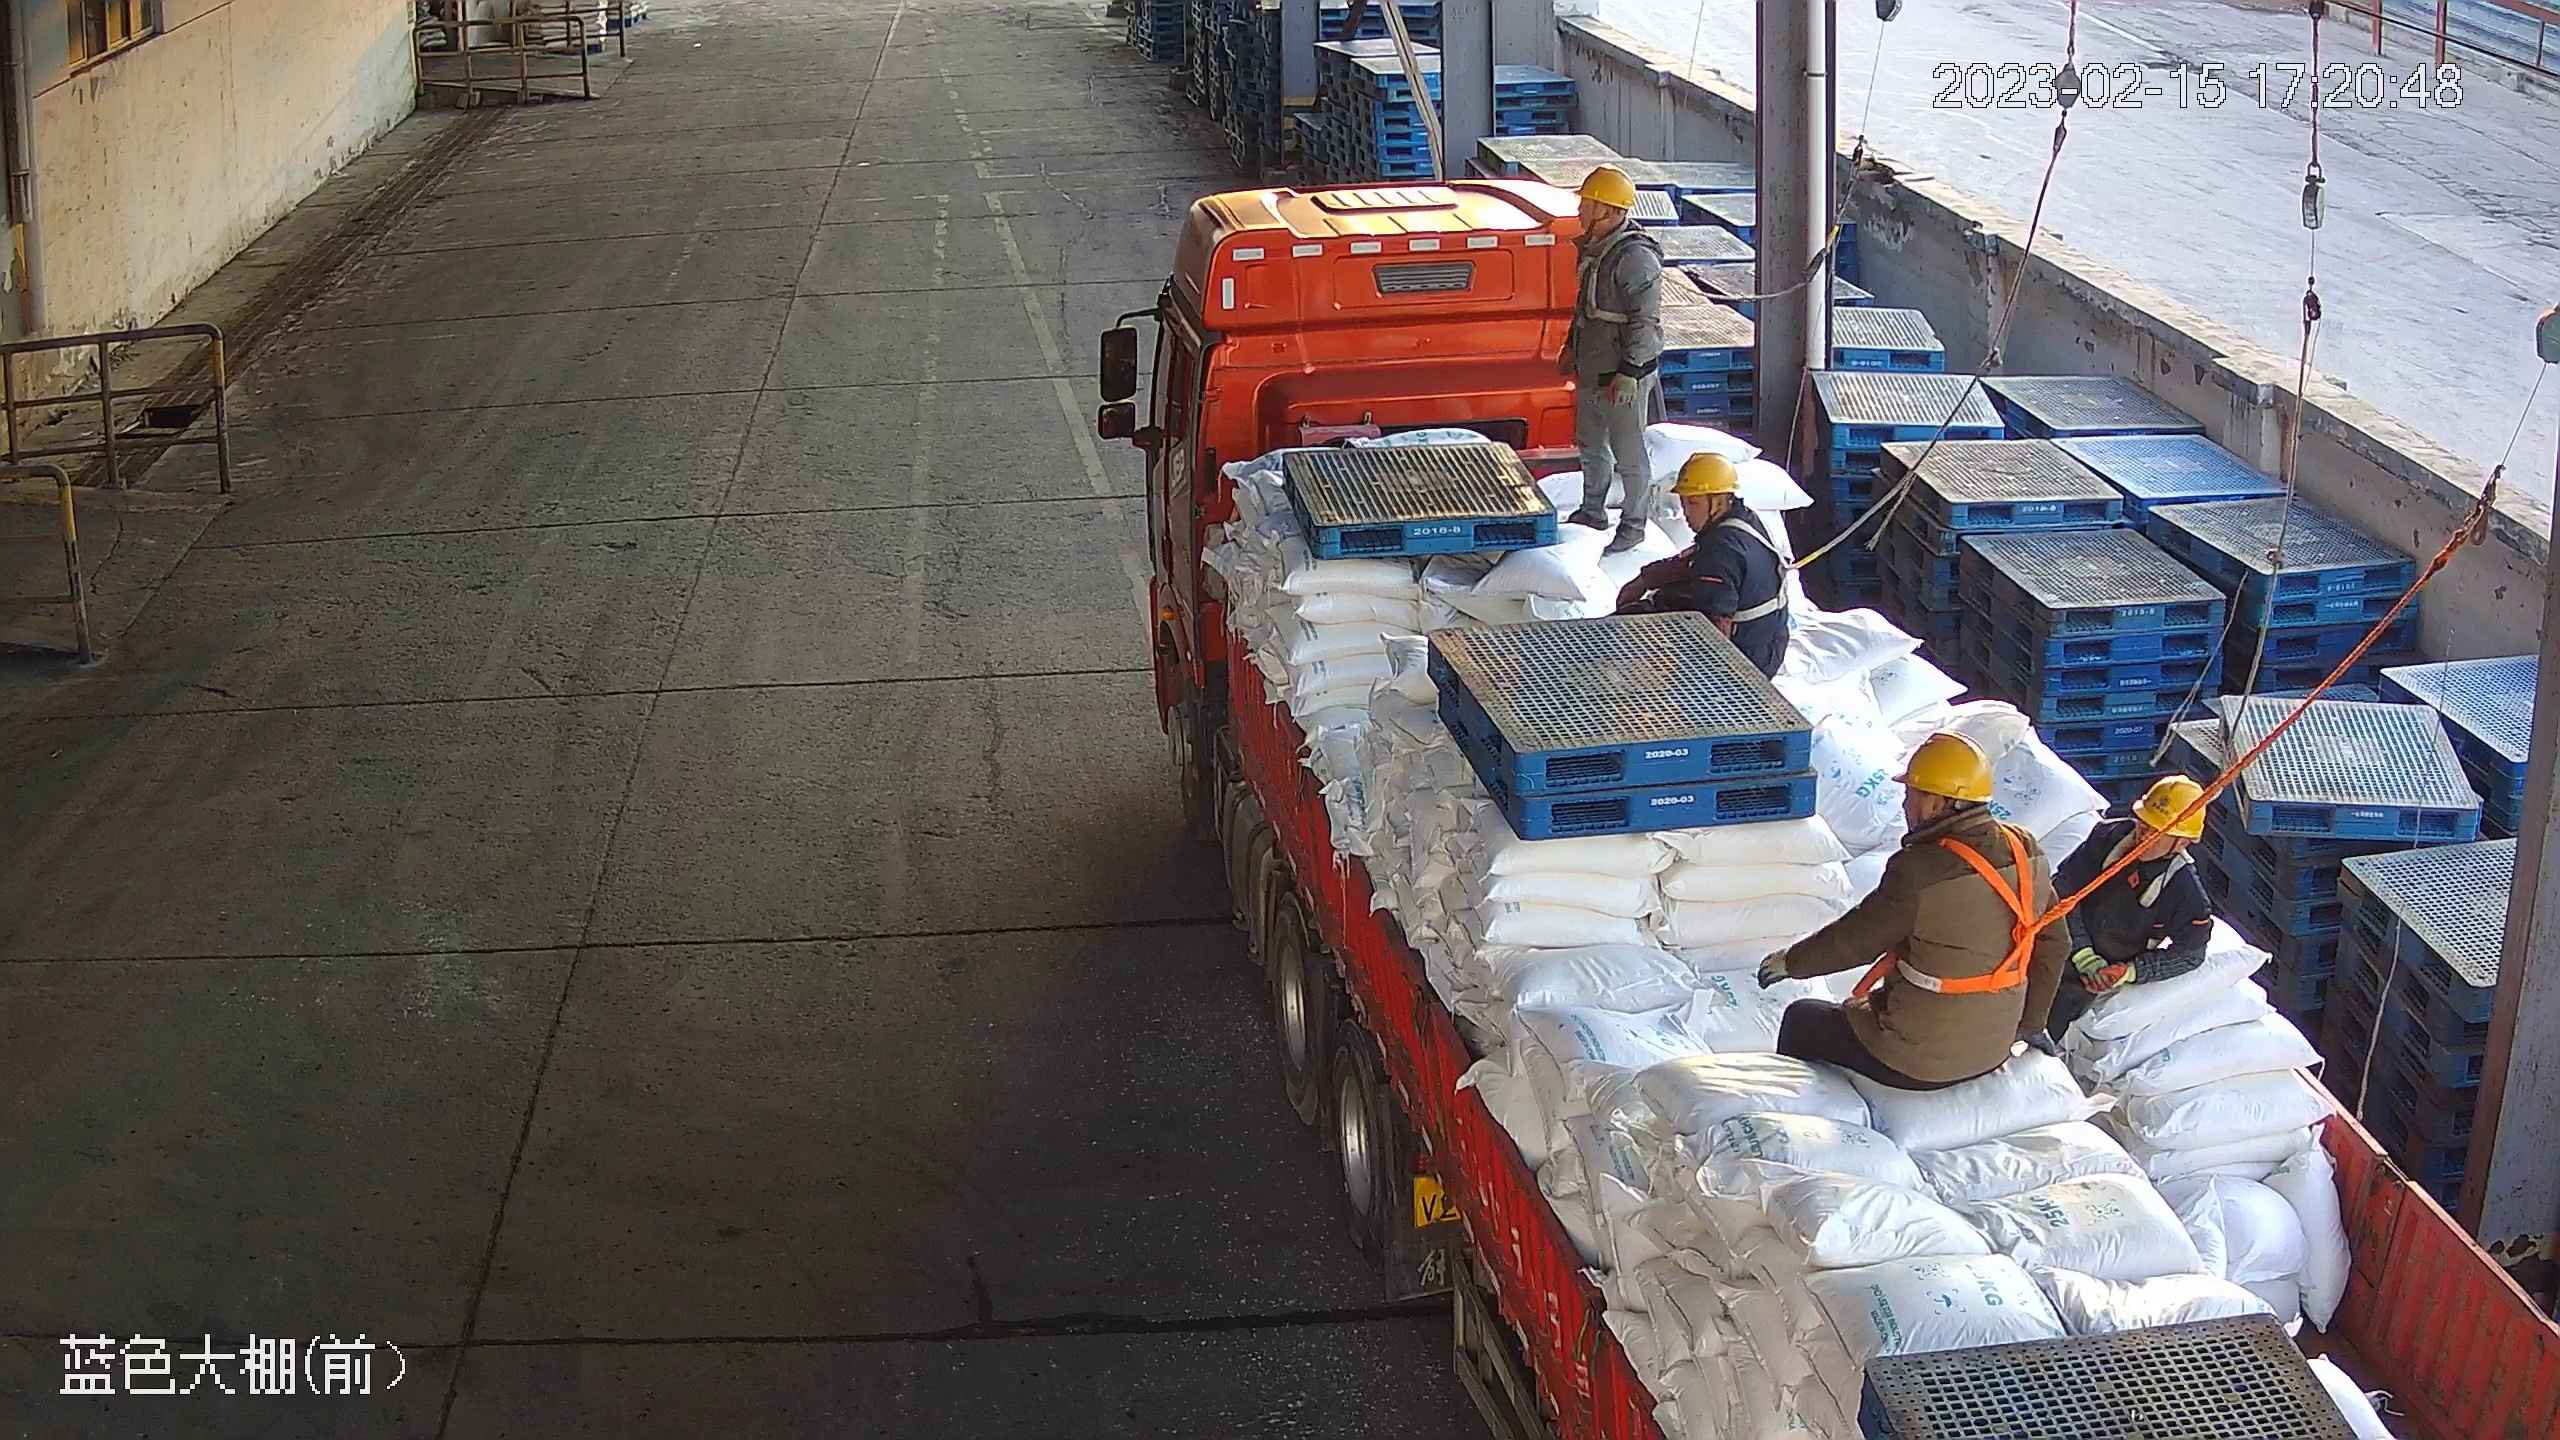belt: (1877, 816, 2048, 1001), (1707, 510, 1798, 629), (1575, 226, 1654, 328), (2101, 817, 2196, 895)
head: (1812, 734, 2049, 917), (2068, 767, 2216, 930), (1673, 449, 1773, 588), (1559, 167, 1664, 286)
helmet: (1888, 734, 2011, 806), (2131, 773, 2223, 853), (1663, 442, 1741, 507), (1583, 158, 1640, 214)
people: (1768, 729, 2070, 1084), (1561, 164, 1673, 547)
truck: (1083, 162, 2560, 1440)
